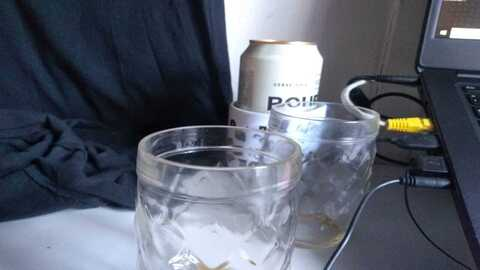bohemia: (240, 38, 323, 114)
